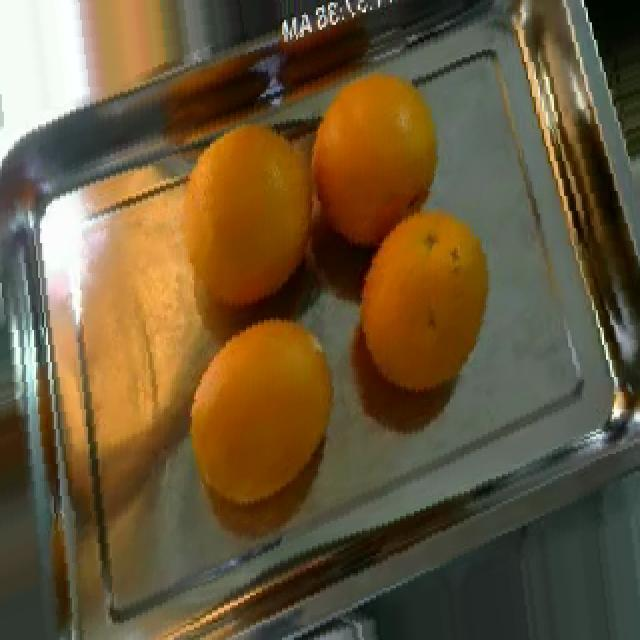Fruit: (290, 45, 466, 273), (58, 0, 198, 117)
